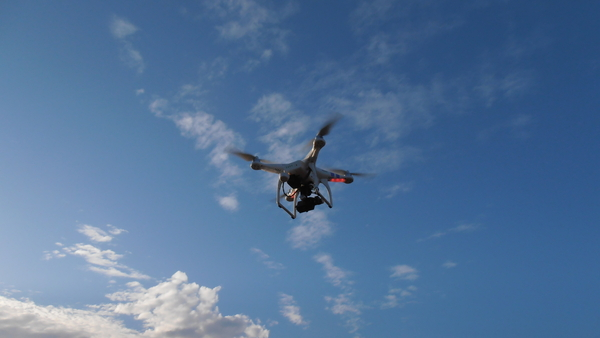drone: (228, 116, 375, 221)
